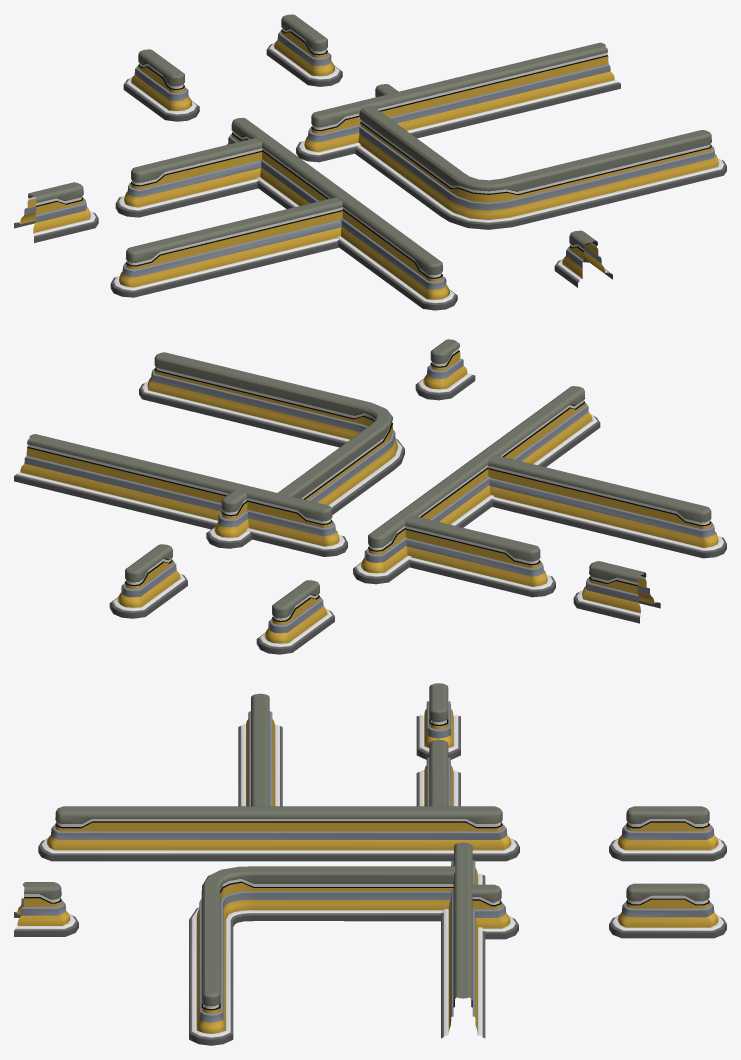
The model's file is Small walls.fbx.
3 views of the same model, one above another, from view 1: azimuth 30°, elevation 25°; view 2: azimuth 150°, elevation 25°; view 3: azimuth 270°, elevation 25° (orthographic). The views are drawn at different scales.
Visible parts, largest first — view 1: Small_wall_L66, Small_wallv1_20, Small_wallv1_49, Small_wallv1_48, Small_wallv1_21, Small_wallv1_105, Small_wallv1_104, Small_wallv1_41, Small_wallv1_106; view 2: Small_wall_L66, Small_wallv1_20, Small_wallv1_49, Small_wallv1_48, Small_wallv1_21, Small_wallv1_105, Small_wallv1_104, Small_wallv1_41, Small_wallv1_106, Small_wallv1_44; view 3: Small_wallv1_48, Small_wall_L66, Small_wallv1_20, Small_wallv1_104, Small_wallv1_105, Small_wallv1_49, Small_wallv1_106, Small_wallv1_41, Small_wallv1_21, Small_wallv1_44.
Part boxes in pixels (<box>): Small_wall_L66: <box>355,105,726,229</box>; Small_wallv1_20: <box>296,42,620,162</box>; Small_wallv1_49: <box>110,197,342,297</box>; Small_wallv1_48: <box>227,117,457,310</box>; Small_wallv1_21: <box>115,137,262,217</box>; Small_wallv1_105: <box>266,14,342,86</box>; Small_wallv1_104: <box>123,49,199,121</box>; Small_wallv1_41: <box>14,182,98,242</box>; Small_wallv1_106: <box>554,230,612,287</box>; Small_wall_L66: <box>139,352,404,514</box>; Small_wallv1_20: <box>14,434,347,556</box>; Small_wallv1_49: <box>488,454,726,558</box>; Small_wallv1_48: <box>353,386,600,584</box>; Small_wallv1_21: <box>405,515,555,597</box>; Small_wallv1_105: <box>109,544,187,618</box>; Small_wallv1_104: <box>256,580,334,654</box>; Small_wallv1_41: <box>573,561,660,623</box>; Small_wallv1_106: <box>415,339,475,400</box>; Small_wallv1_44: <box>206,490,251,548</box>; Small_wallv1_48: <box>38,806,519,861</box>; Small_wall_L66: <box>189,866,455,1045</box>; Small_wallv1_20: <box>441,842,485,1038</box>; Small_wallv1_104: <box>609,806,726,861</box>; Small_wallv1_105: <box>609,883,726,938</box>; Small_wallv1_49: <box>238,693,282,806</box>; Small_wallv1_106: <box>14,882,78,936</box>; Small_wallv1_41: <box>416,683,460,759</box>; Small_wallv1_21: <box>416,739,460,806</box>; Small_wallv1_44: <box>470,884,518,939</box>.
Size of the model in its own units: 593 by 37.98 by 553.
